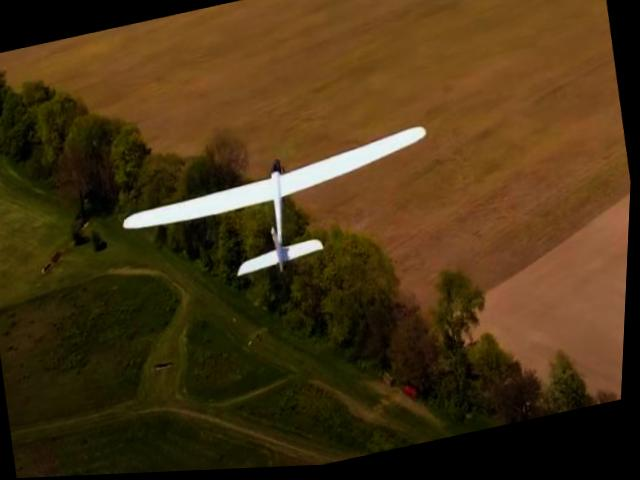iha: (109, 117, 453, 311)
